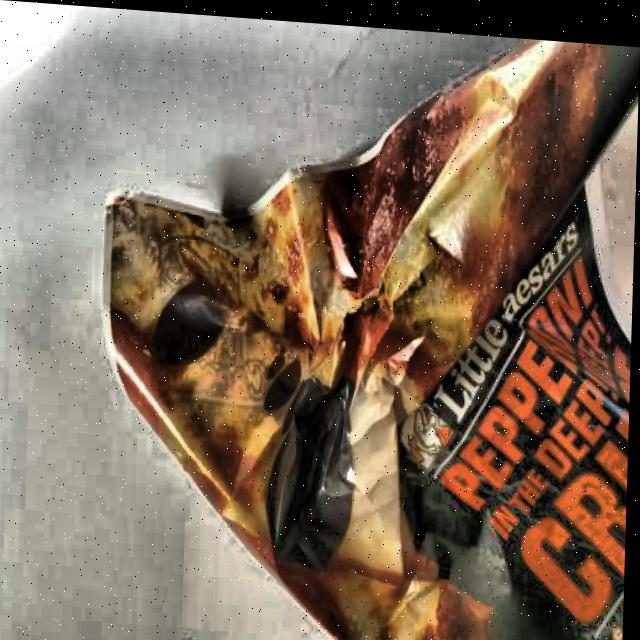paper: (91, 8, 640, 640)
